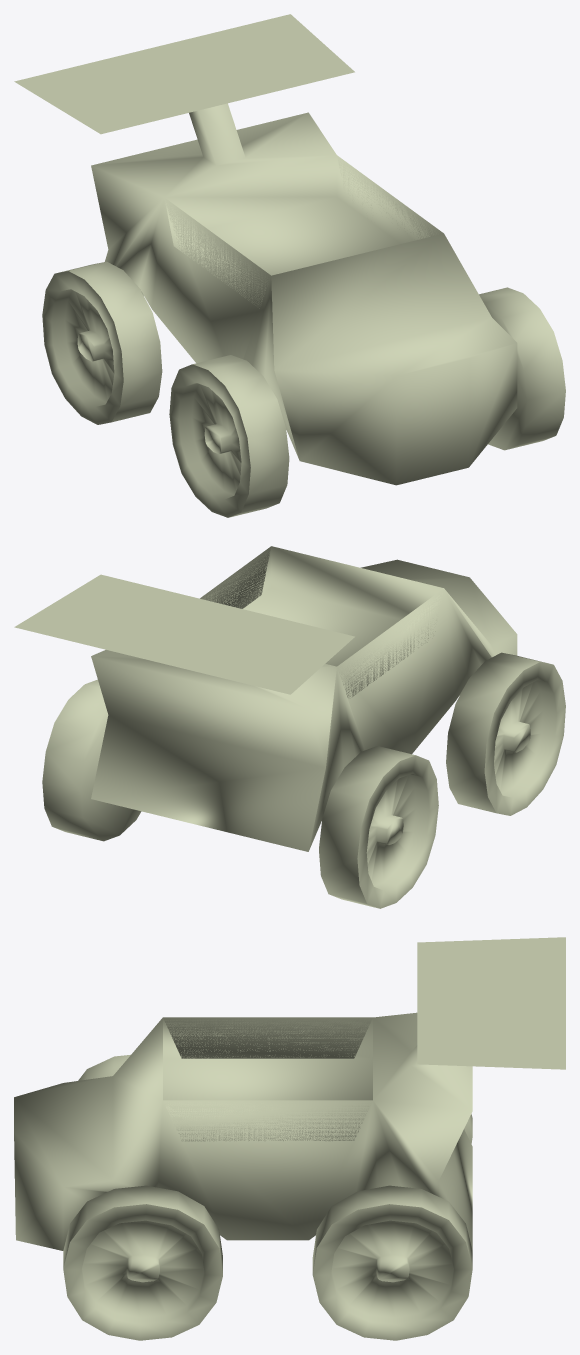
The model's file is CAR.obj.
The picture shows the model from 3 angles, top to bottom: view 1: azimuth 30°, elevation 25°; view 2: azimuth 150°, elevation 25°; view 3: azimuth 270°, elevation 25°; orthographic projection.
Parts seen in each view (by area): view 1: Cube1; view 2: Cube1; view 3: Cube1.
Part boxes in pixels (<box>): Cube1: <box>14,14,565,517</box>; Cube1: <box>14,546,565,908</box>; Cube1: <box>14,937,565,1340</box>.
Size of the model in its own units: 4.62 by 3.74 by 7.14.
